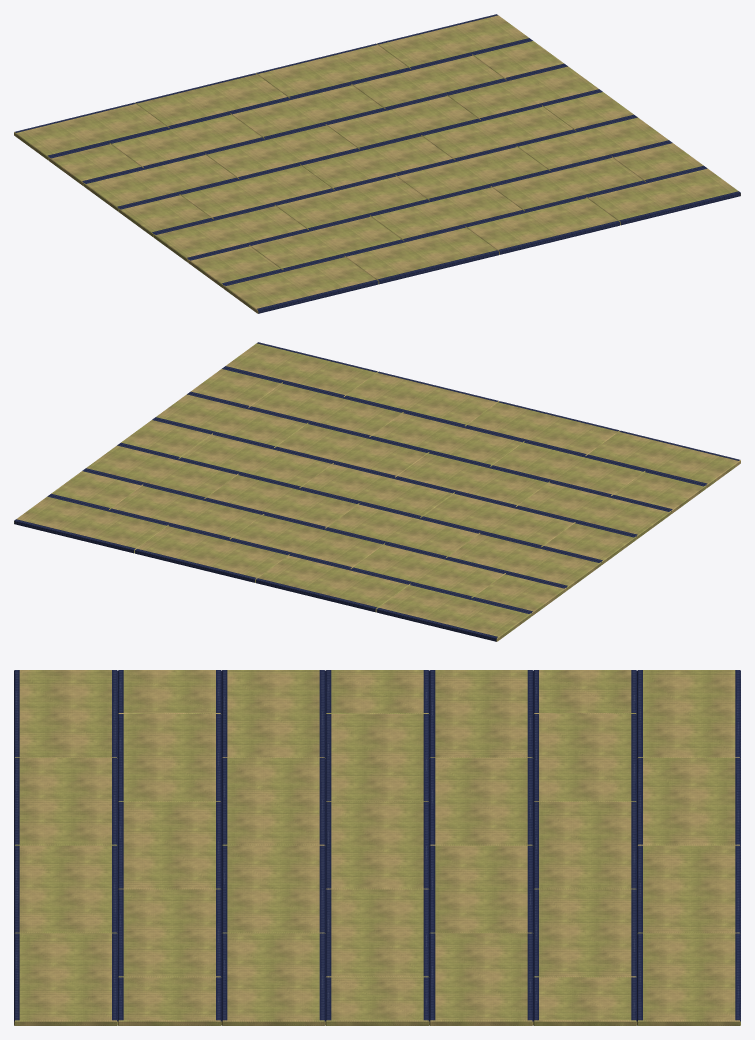
File: 19B_Tatami.fbx
3 renders of one model, top to bottom at view 1: azimuth 30°, elevation 25°; view 2: azimuth 150°, elevation 25°; view 3: azimuth 270°, elevation 25°, orthographic. The views are drawn at different scales.
Parts seen in each view (by area): view 1: SM_19B_Tatami; view 2: SM_19B_Tatami; view 3: SM_19B_Tatami.
Boxes of the visible parts, bbox=[...] form: SM_19B_Tatami: bbox=[14, 14, 740, 313]; SM_19B_Tatami: bbox=[14, 342, 740, 641]; SM_19B_Tatami: bbox=[14, 670, 740, 1025].
Size of the model in its own units: 7.2 by 0.05 by 6.3.
